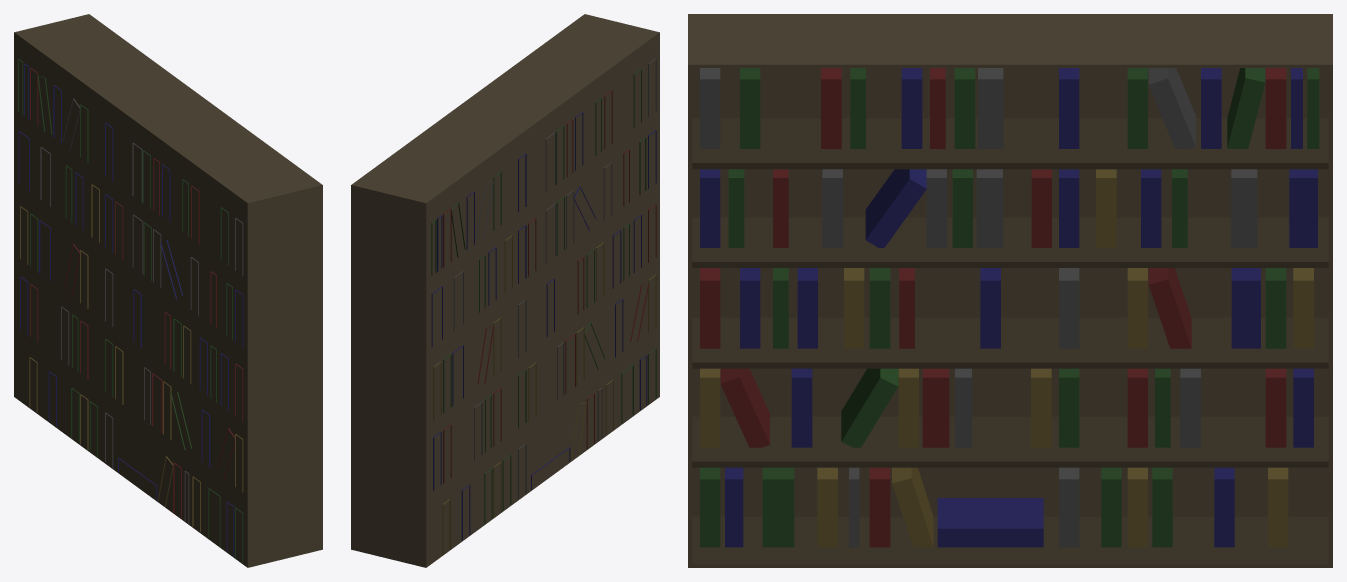
The model's file is Bookcase.fbx.
The picture shows the model from 3 angles, left to right: view 1: azimuth 30°, elevation 25°; view 2: azimuth 150°, elevation 25°; view 3: azimuth 270°, elevation 25°; orthographic projection. The views are drawn at different scales.
Visible parts, largest first — view 1: polySurface2; view 2: polySurface2; view 3: polySurface2.
Boxes of the visible parts, box(x1,y1,x2,y2) form: polySurface2: box(14, 14, 322, 567); polySurface2: box(351, 14, 659, 567); polySurface2: box(688, 14, 1332, 567).
Bounding box in the file's own units: 1.01 × 4.64 × 5.39.
